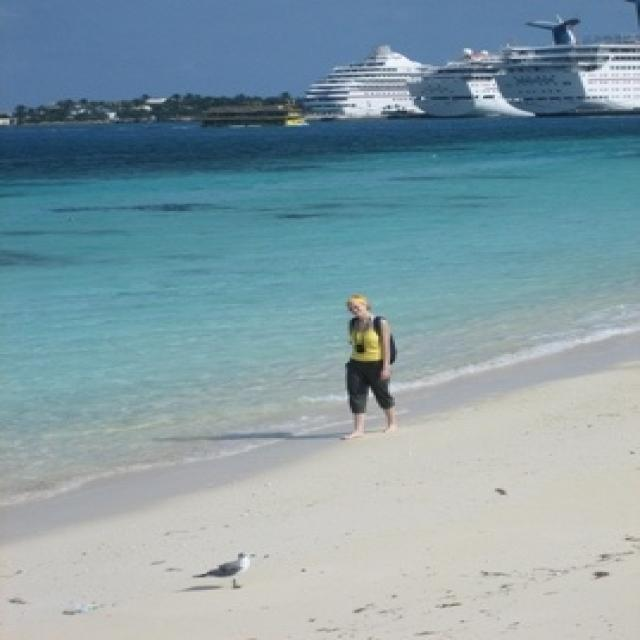bird: (189, 552, 258, 593)
boat: (498, 15, 639, 119), (303, 44, 439, 119), (408, 48, 536, 116)
person: (339, 294, 401, 443)
